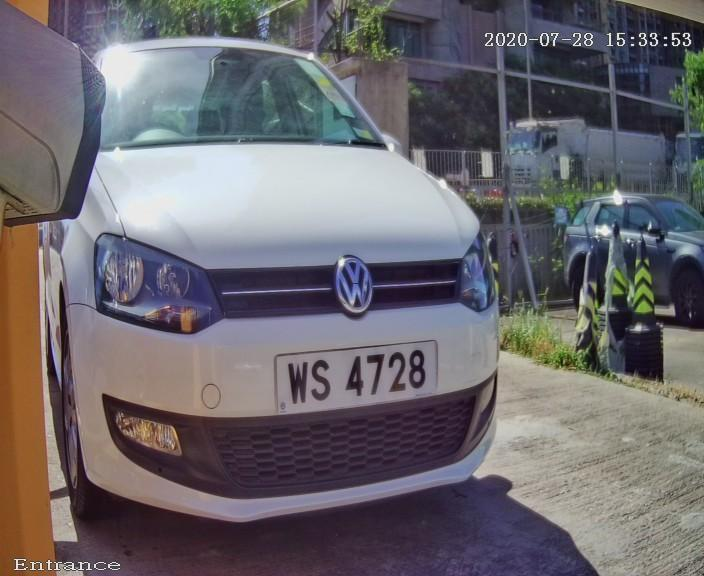privatecar: (38, 21, 547, 559)
